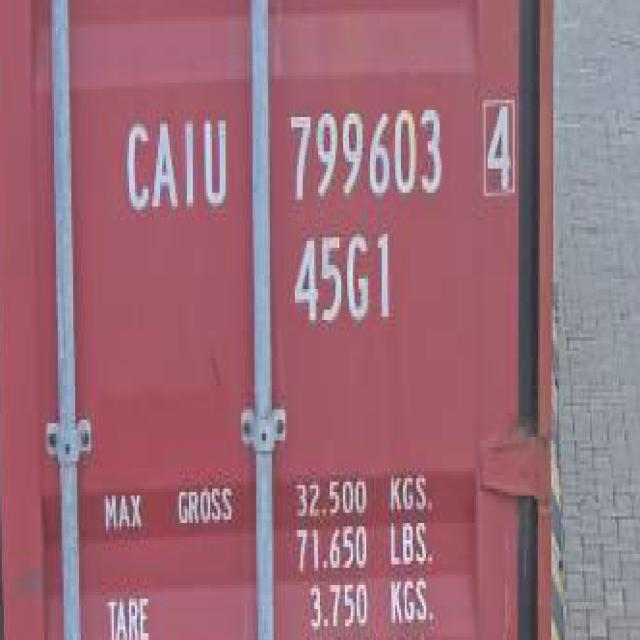dv: (472, 90, 521, 207)
owner: (122, 105, 231, 226)
serial: (282, 99, 452, 207)
size: (284, 225, 395, 334)
